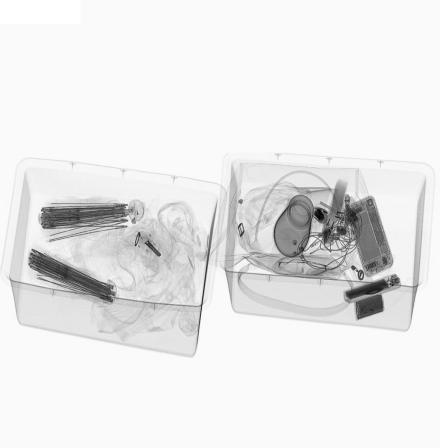Powerbank: (341, 273, 404, 305)
